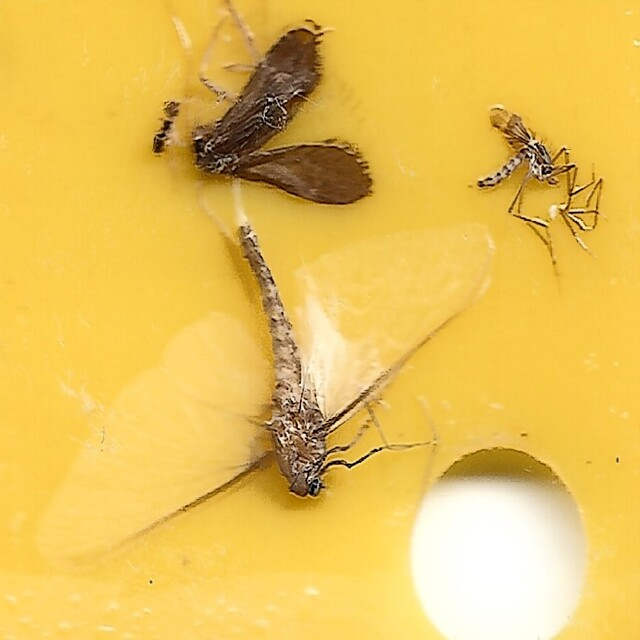Ephemeroptera: (75, 223, 501, 549)
Isoptera: (148, 91, 181, 156)
Nematocera: (473, 105, 565, 198)
